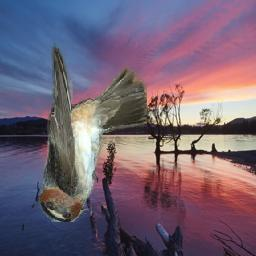Swallow: (39, 44, 148, 223)
